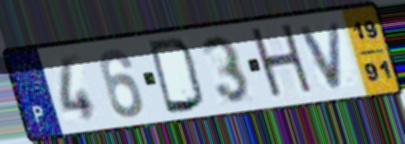3: (200, 32, 253, 105)
4: (57, 52, 100, 125)
6: (97, 46, 145, 120)
D: (144, 37, 208, 116)
H: (246, 21, 319, 104)
V: (296, 19, 346, 92)
